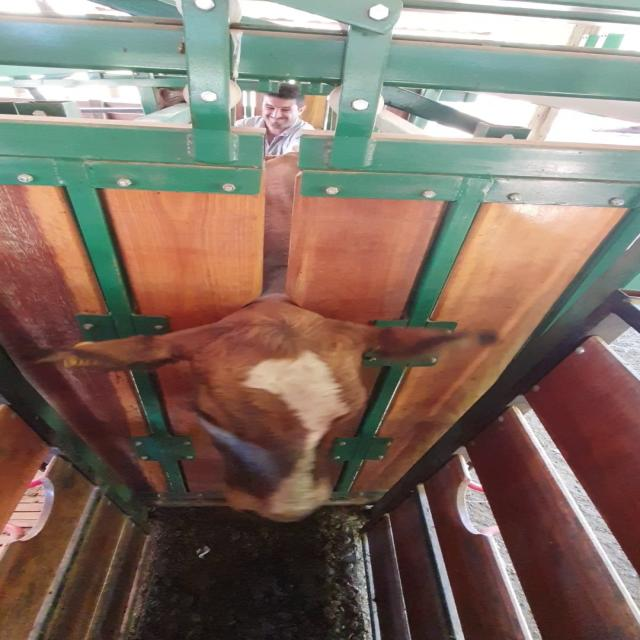cowFace: (194, 318, 365, 522)
